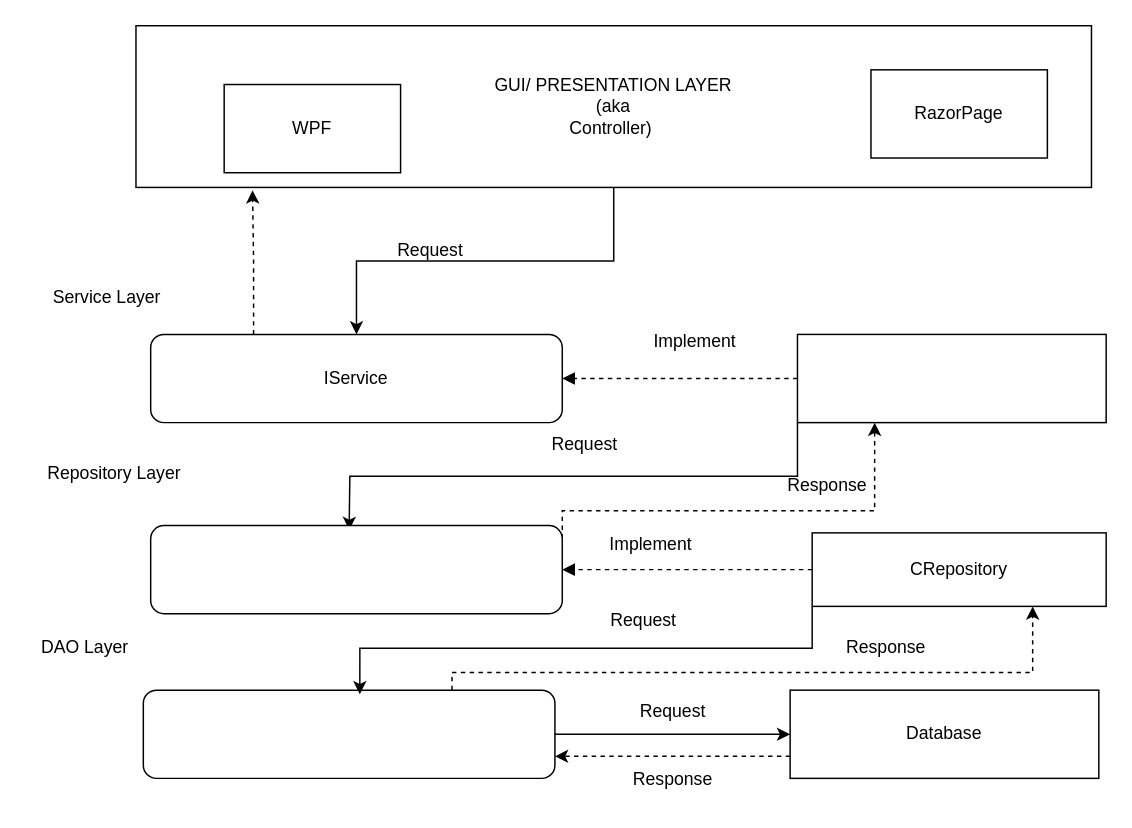
The diagram is 1132 pixels wide and 828 high, and some of its shapes have lost their labels. Each missing label, with the centre of its shape:
CService: pixel 951 378
DAO: pixel 348 733
IRepository: pixel 355 569
